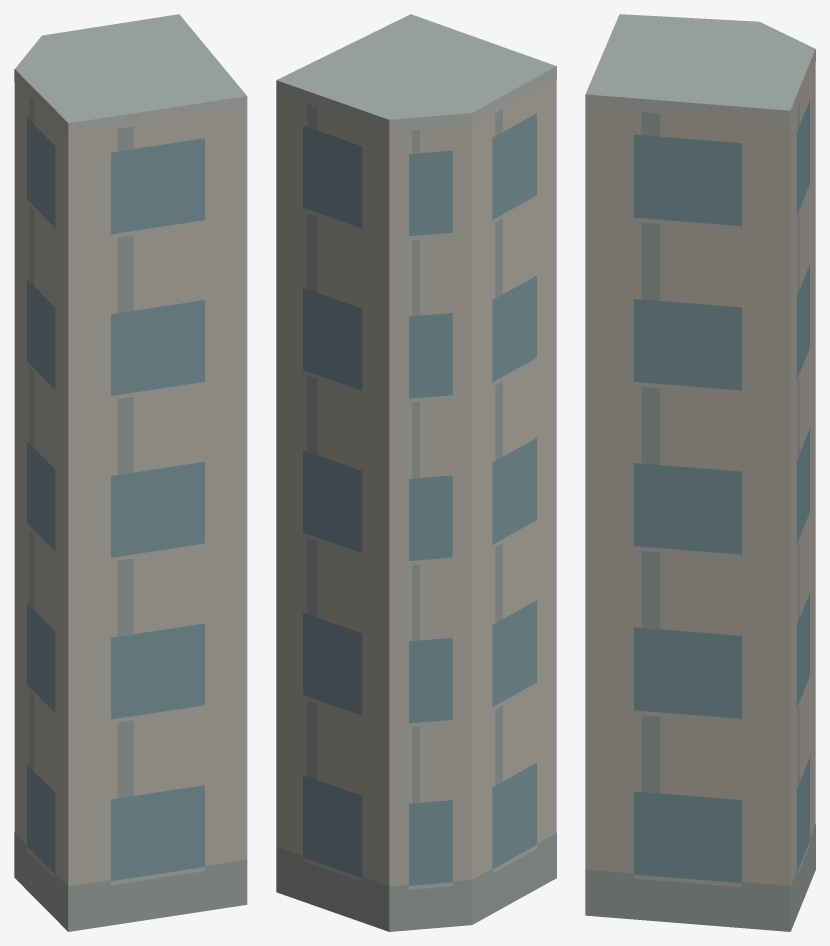
The model's file is survey-upis-32647189.glb.
The picture shows the model from 3 angles, left to right: view 1: azimuth 30°, elevation 25°; view 2: azimuth 150°, elevation 25°; view 3: azimuth 270°, elevation 25°; orthographic projection.
Visible parts, largest first — view 1: survey-upis-32647189.tmp; view 2: survey-upis-32647189.tmp; view 3: survey-upis-32647189.tmp.
Part boxes in pixels (box(x1,y1,x2,y2)): survey-upis-32647189.tmp: box(14, 14, 247, 931); survey-upis-32647189.tmp: box(276, 14, 556, 931); survey-upis-32647189.tmp: box(585, 14, 815, 931).
Bounding box in the file's own units: 3.86 × 15.25 × 3.88.
